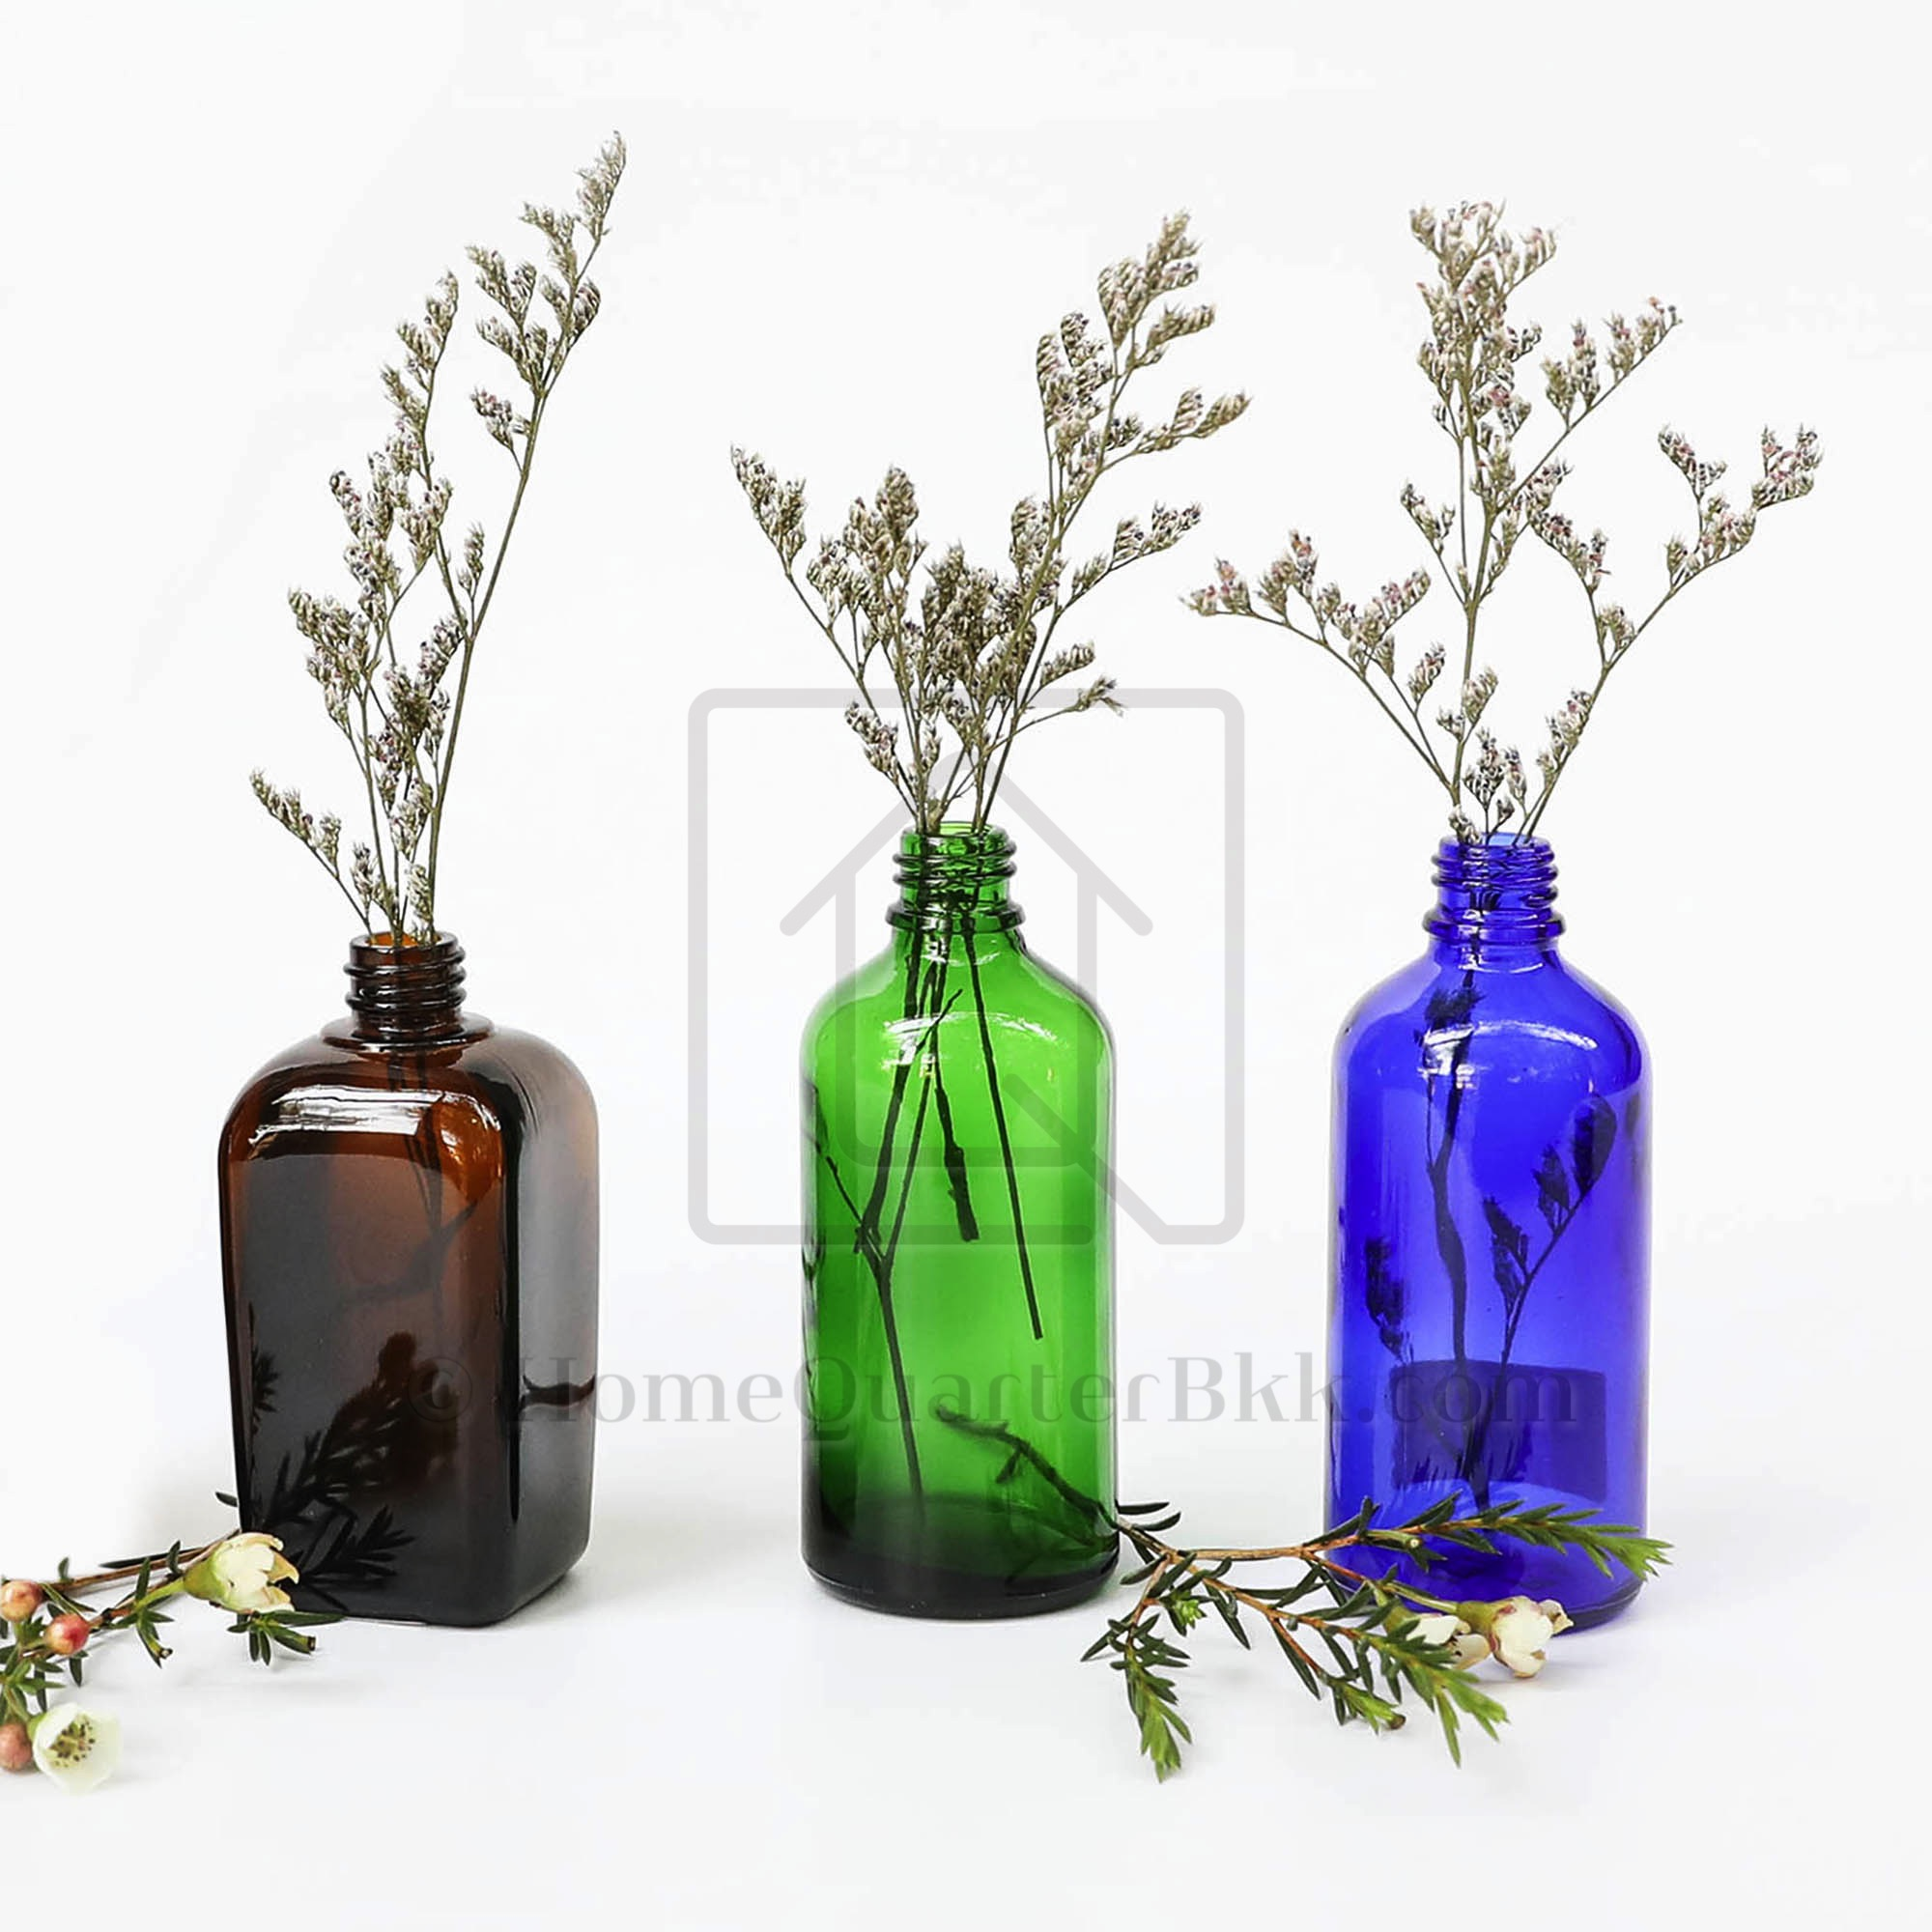glass_bottle: (214, 924, 612, 1635), (1315, 826, 1651, 1637), (791, 823, 1131, 1622)
